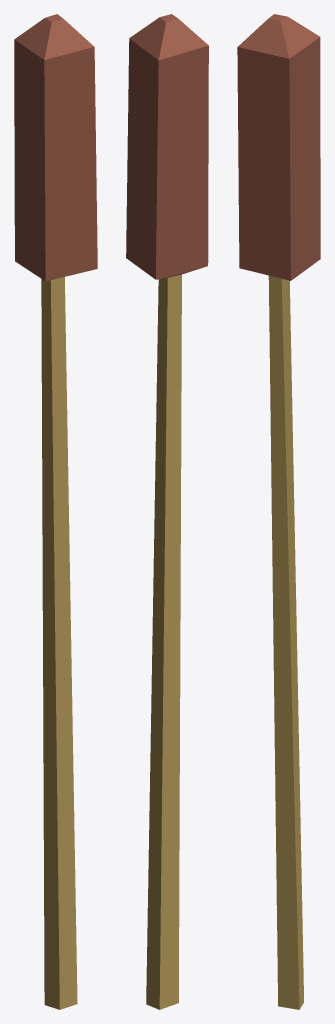
Rendered from EA03_Nature_SweetFlag_02a.glb.
The picture shows the model from 3 angles, left to right: view 1: azimuth 30°, elevation 25°; view 2: azimuth 210°, elevation 25°; view 3: azimuth 330°, elevation 25°; orthographic projection.
Parts seen in each view (by area): view 1: EA03_Nature_SweetFlag_02a; view 2: EA03_Nature_SweetFlag_02a; view 3: EA03_Nature_SweetFlag_02a.
Part boxes in pixels (bbox=[...]): EA03_Nature_SweetFlag_02a: bbox=[14, 14, 97, 1009]; EA03_Nature_SweetFlag_02a: bbox=[126, 14, 208, 1009]; EA03_Nature_SweetFlag_02a: bbox=[237, 14, 320, 1009].
Size of the model in its own units: 0.1722 by 2.96 by 0.1698.
1 material, 1 textured.
